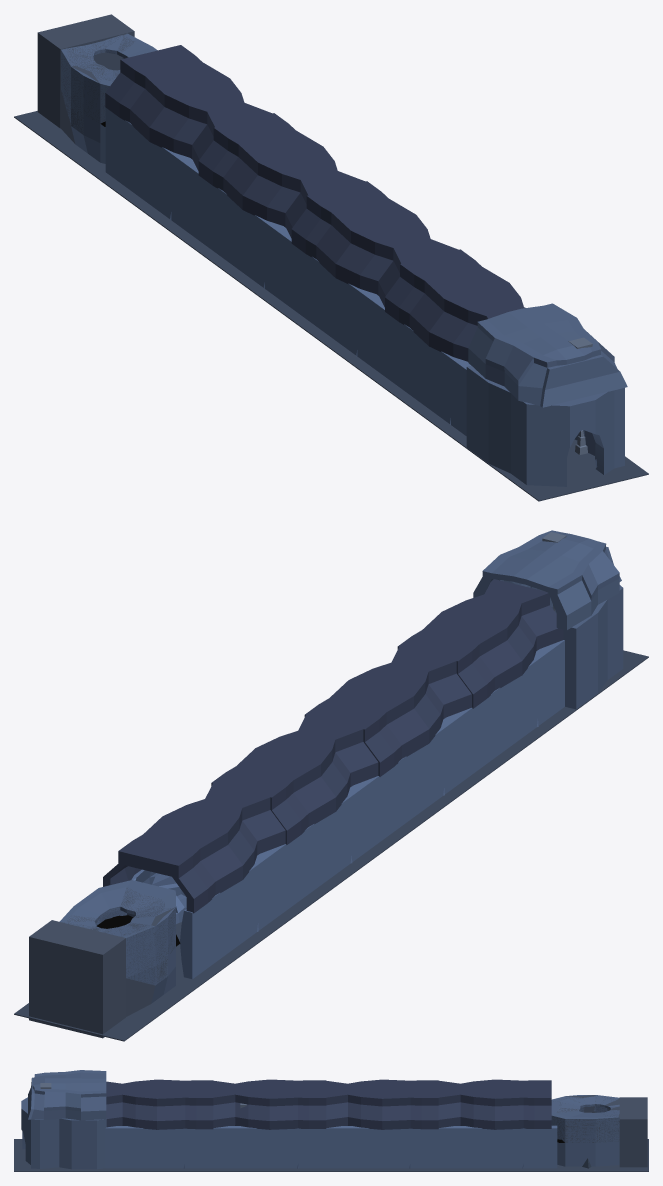
The model's file is ice_cave 2.obj.
3 renders of one model, top to bottom at view 1: azimuth 30°, elevation 25°; view 2: azimuth 150°, elevation 25°; view 3: azimuth 270°, elevation 25°, orthographic. The views are drawn at different scales.
Visible parts, largest first — view 1: polySurface3, pCube33, ice_roof pCube25, pCube26 ice_roof, ice_roof ice_roof1 pCube25, ground, ice_roof pCube26 ice_roof1, ice_tunnel ice_tunnel1 pCube21, ice_tunnel pCube21, ice_tunnel pCube23, ice_tunnel ice_tunnel1 pCube23, polySurface1 ice_walls (+2 smaller); view 2: ice_roof pCube25, ice_roof ice_roof1 pCube25, pCube26 ice_roof, ice_roof pCube26 ice_roof1, ice_walls pCube17, ground, pCube33, ice_tunnel pCube21, polySurface1 ice_walls, ice_tunnel ice_tunnel1 pCube21, ice_tunnel pCube23, ice_tunnel ice_tunnel1 pCube23 (+3 smaller); view 3: ice_roof pCube25, pCube26 ice_roof, ice_roof ice_roof1 pCube25, ice_roof pCube26 ice_roof1, ice_tunnel pCube22, pCube24 ice_tunnel, ice_tunnel pCube24 ice_tunnel1, ice_tunnel ice_tunnel1 pCube22, polySurface1 ice_walls, polySurface3, pCube33, ground (+2 smaller).
Boxes of the visible parts, x1,y1,x2,y2 form: polySurface3: (466,365,624,486); pCube33: (468,303,627,407); ice_roof pCube25: (105,45,272,170); pCube26 ice_roof: (198,113,365,238); ice_roof ice_roof1 pCube25: (291,181,458,307); ground: (14,111,648,501); ice_roof pCube26 ice_roof1: (385,249,525,361); ice_tunnel ice_tunnel1 pCube21: (291,244,385,376); ice_tunnel pCube21: (105,108,198,240); ice_tunnel pCube23: (199,176,291,307); ice_tunnel ice_tunnel1 pCube23: (385,312,470,435); polySurface1 ice_walls: (61,33,157,163); ice_roof pCube25: (103,783,285,913); ice_roof ice_roof1 pCube25: (304,647,471,776); pCube26 ice_roof: (211,715,378,844); ice_roof pCube26 ice_roof1: (397,579,563,708); ice_walls pCube17: (29,920,125,1038); ground: (14,650,648,1041); pCube33: (473,530,621,630); ice_tunnel pCube21: (180,844,285,979); polySurface1 ice_walls: (59,880,175,1003); ice_tunnel ice_tunnel1 pCube21: (378,708,472,842); ice_tunnel pCube23: (285,776,378,910); ice_tunnel ice_tunnel1 pCube23: (472,640,564,773); ice_roof pCube25: (438,1079,551,1129); pCube26 ice_roof: (325,1079,438,1129); ice_roof ice_roof1 pCube25: (213,1079,326,1129); ice_roof pCube26 ice_roof1: (106,1079,213,1129); ice_tunnel pCube22: (444,1125,557,1168); pCube24 ice_tunnel: (331,1126,444,1168); ice_tunnel pCube24 ice_tunnel1: (105,1126,218,1168); ice_tunnel ice_tunnel1 pCube22: (219,1126,331,1168); polySurface1 ice_walls: (551,1095,619,1166); polySurface3: (21,1097,106,1169); pCube33: (28,1070,106,1120); ground: (14,1139,648,1171).
Size of the model in its own units: 924 by 1011 by 7622.
